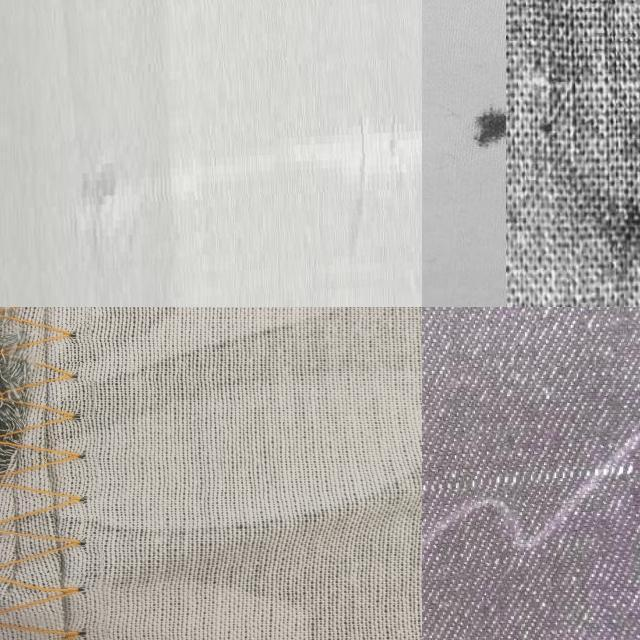Thread_other: (433, 78, 506, 172)
Thread_out: (0, 307, 105, 640)
stains: (5, 0, 422, 307), (422, 427, 640, 588)
